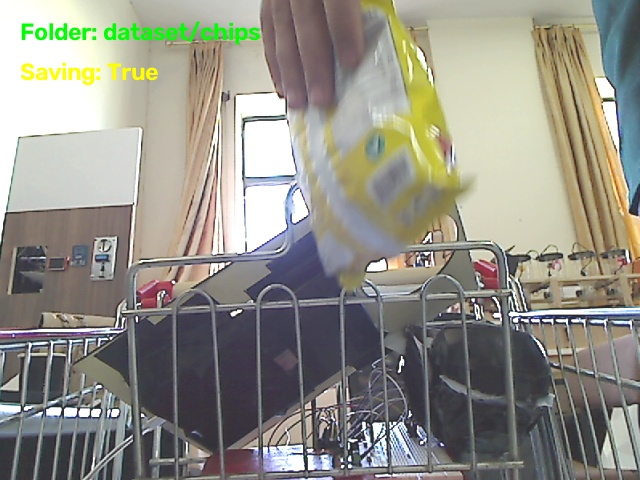chips: (288, 0, 462, 288)
